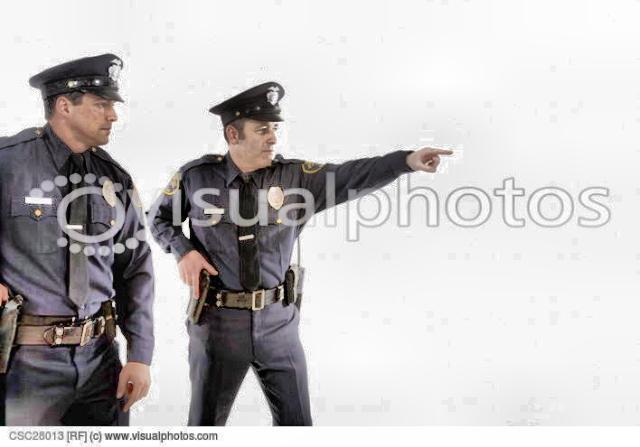pistol: (182, 266, 210, 328)
